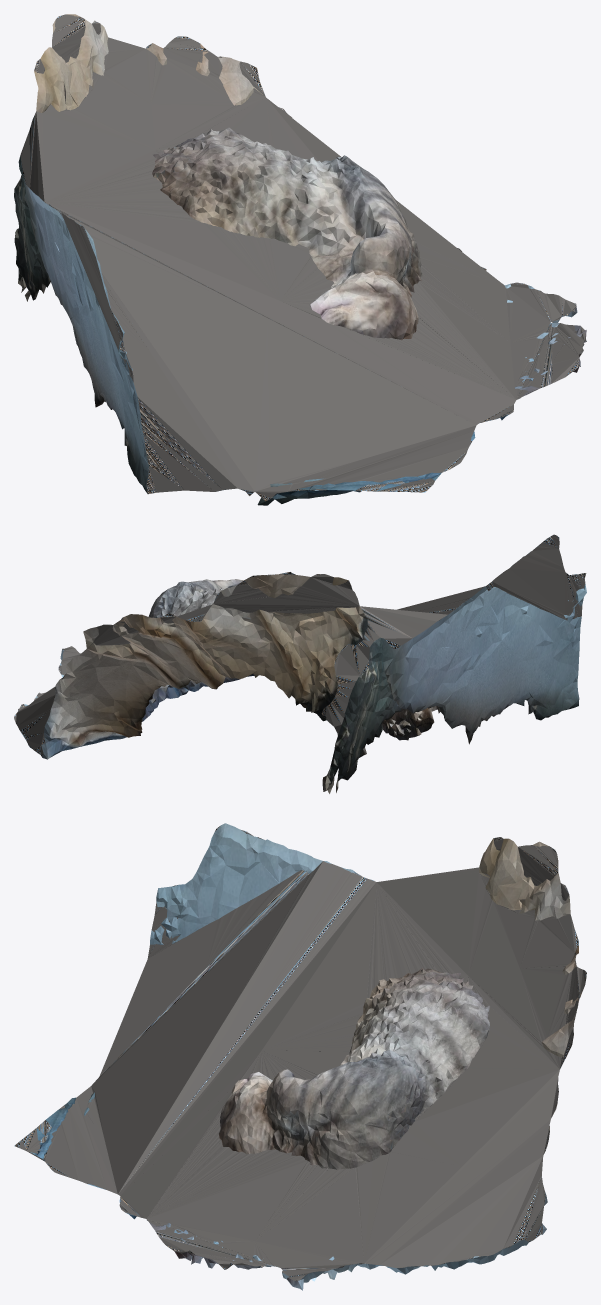
File: cat.glbb.glb
3 views of the same model, one above another, from view 1: azimuth 30°, elevation 25°; view 2: azimuth 150°, elevation 25°; view 3: azimuth 270°, elevation 25° (orthographic). The views are drawn at different scales.
Visible parts, largest first — view 1: a228ff14-cadf-44c1-9017-ec5dc90c85f9; view 2: a228ff14-cadf-44c1-9017-ec5dc90c85f9; view 3: a228ff14-cadf-44c1-9017-ec5dc90c85f9.
Part boxes in pixels (bbox=[...]): a228ff14-cadf-44c1-9017-ec5dc90c85f9: bbox=[14, 14, 586, 505]; a228ff14-cadf-44c1-9017-ec5dc90c85f9: bbox=[14, 534, 586, 793]; a228ff14-cadf-44c1-9017-ec5dc90c85f9: bbox=[14, 823, 586, 1290].
Size of the model in its own units: 0.9252 by 0.5 by 0.9276.
1 material, 1 textured.
